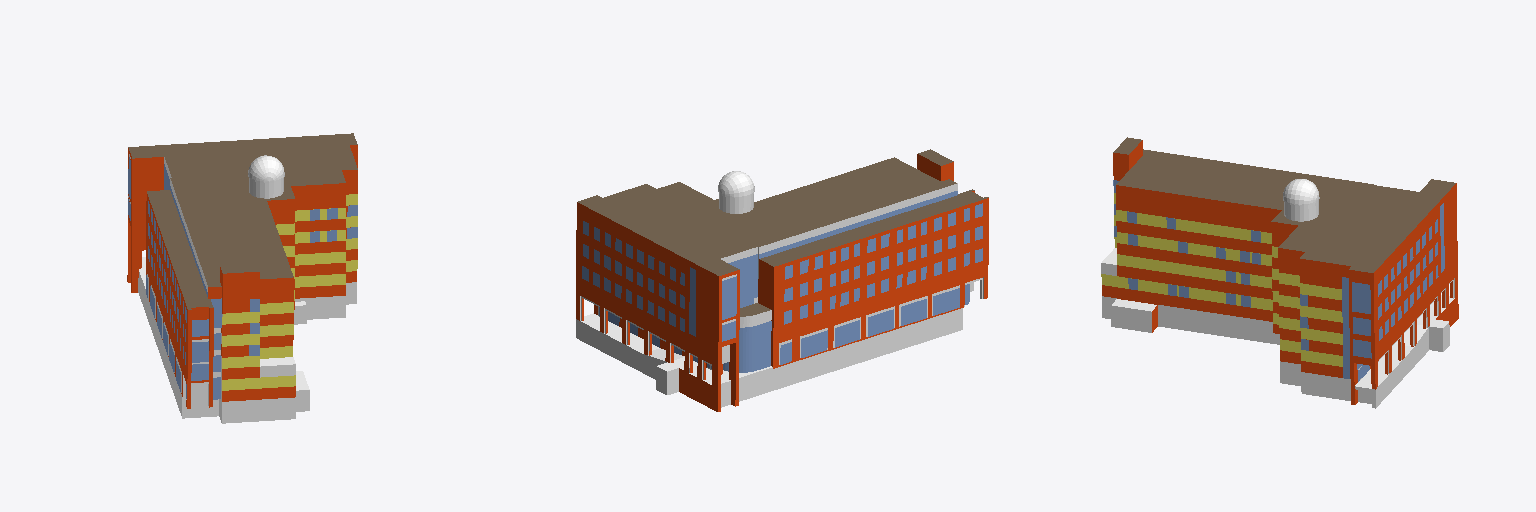
File: Physics.obj
3 views of the same model, side by side, from view 1: azimuth 30°, elevation 25°; view 2: azimuth 150°, elevation 25°; view 3: azimuth 270°, elevation 25° (orthographic).
Visible parts, largest first — view 1: SM_Physics_Bldg, SM_Physics_Wndws; view 2: SM_Physics_Bldg, SM_Physics_Wndws; view 3: SM_Physics_Bldg, SM_Physics_Wndws.
Part boxes in pixels (left/top/right/bottom): SM_Physics_Bldg: left=127, top=133, right=357, bottom=423; SM_Physics_Wndws: left=128, top=154, right=357, bottom=399; SM_Physics_Bldg: left=576, top=149, right=988, bottom=411; SM_Physics_Wndws: left=582, top=171, right=982, bottom=372; SM_Physics_Bldg: left=1101, top=137, right=1458, bottom=408; SM_Physics_Wndws: left=1113, top=179, right=1444, bottom=381.
Size of the model in its own units: 5818 by 3310 by 6227.